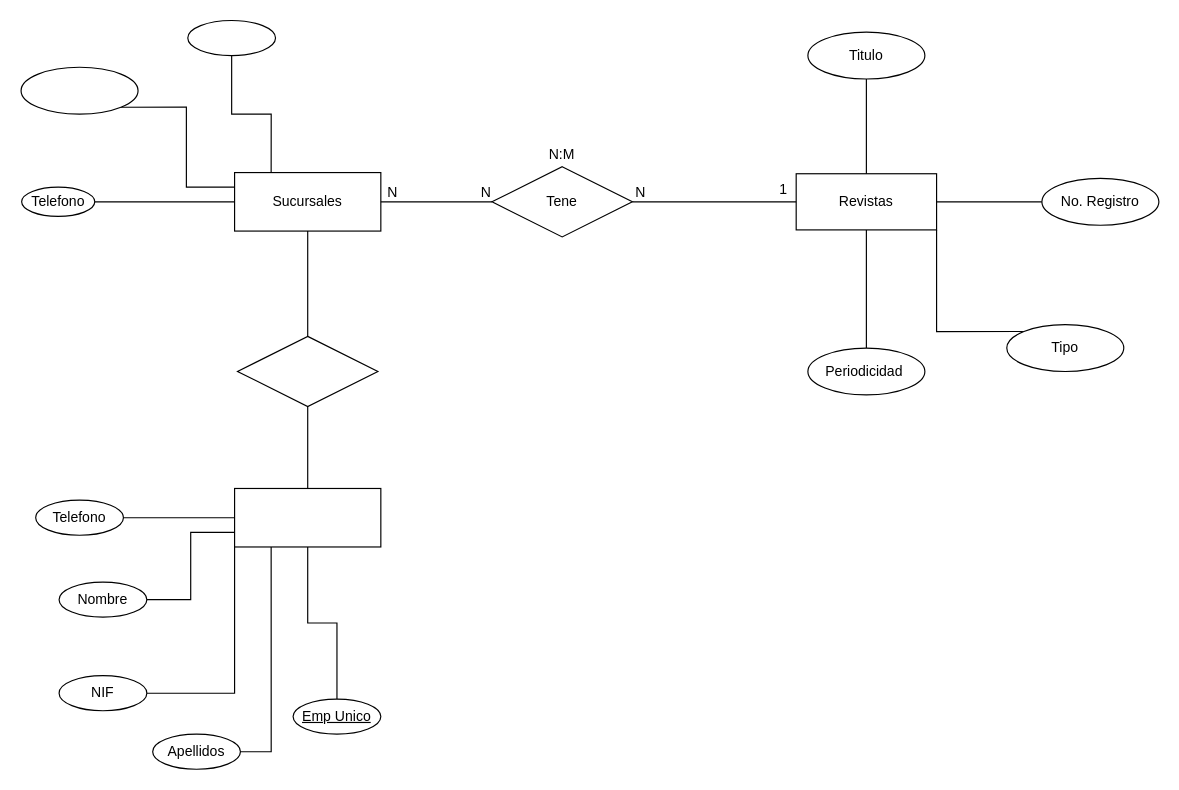
Image size: 1179x790. Some labels were removed from this diagram. Each missing label, with the centre of its shape:
"Codigo de sucursal" belongs at (x=79, y=90).
"Domicilio" belongs at (x=231, y=37).
"Empleados" belongs at (x=307, y=517).
"Tiene" belongs at (x=307, y=371).
